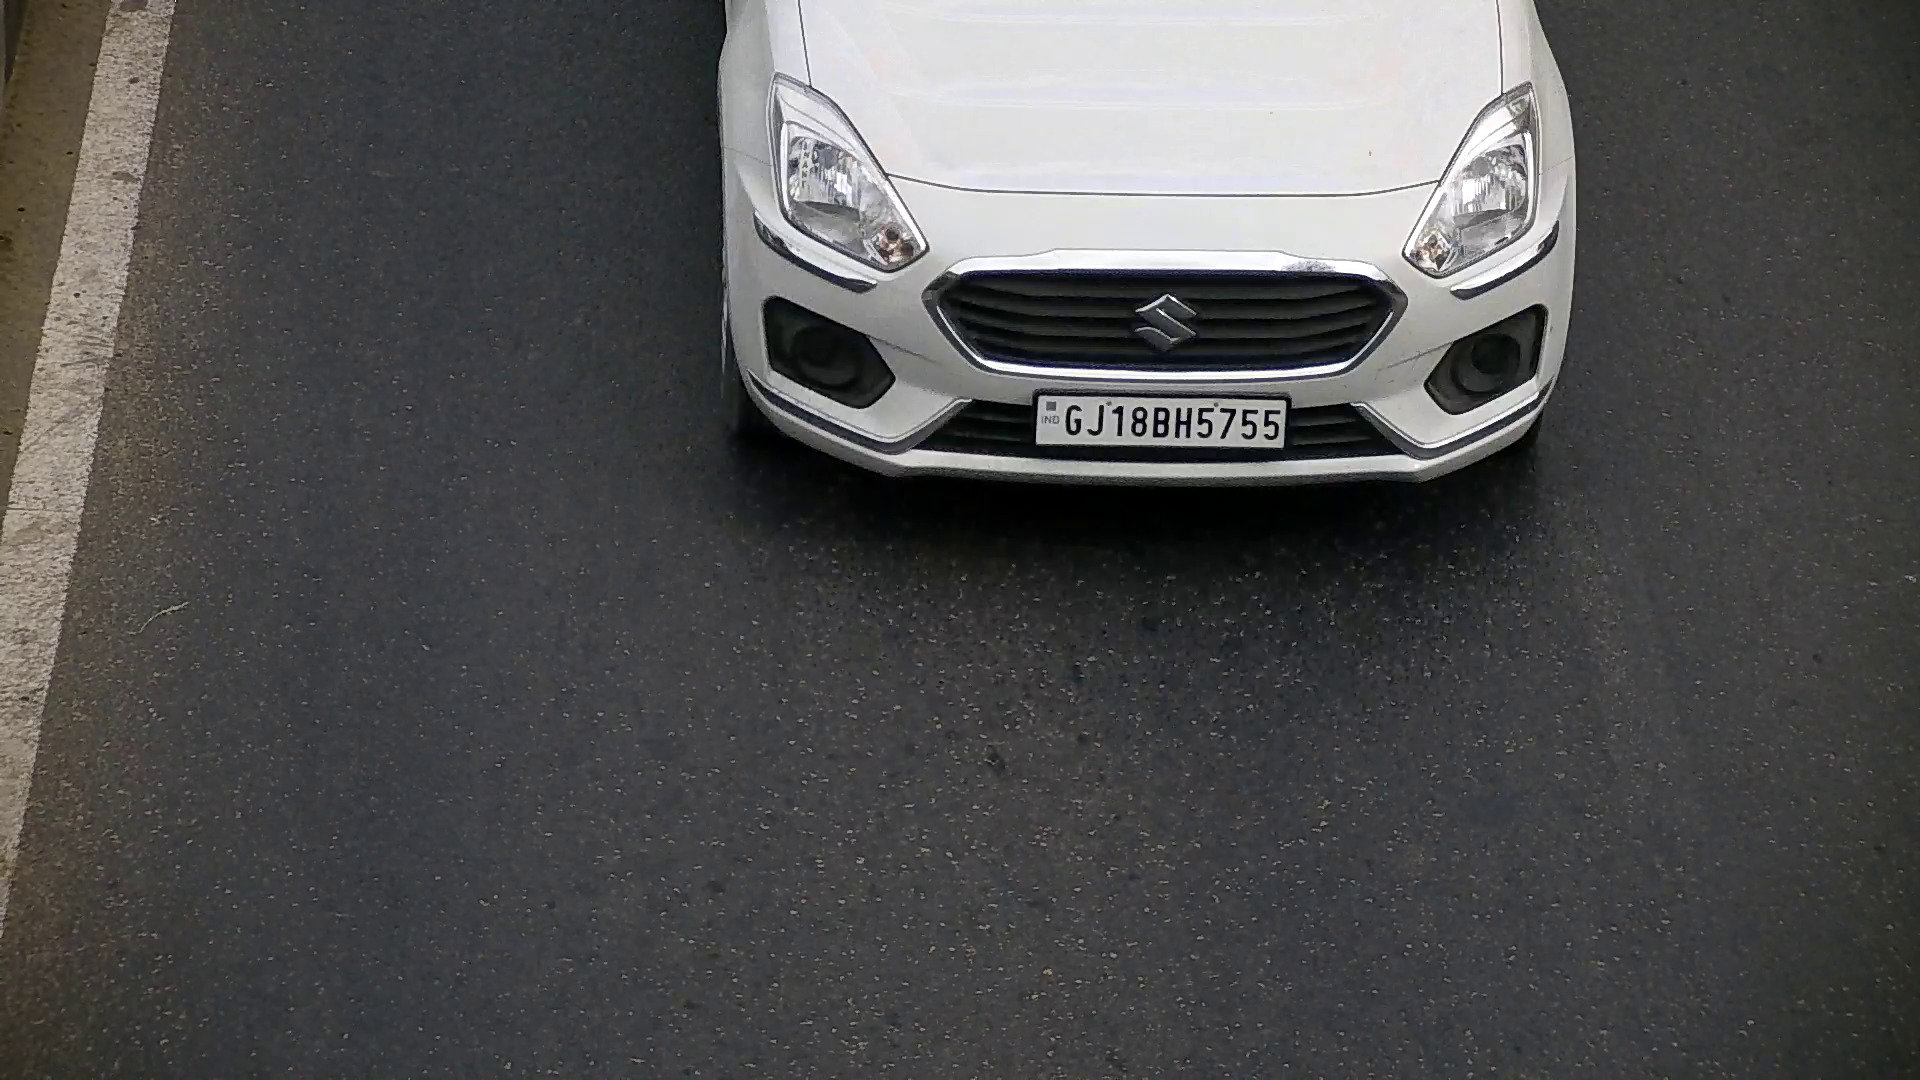numberplate: (1030, 388, 1295, 450)
